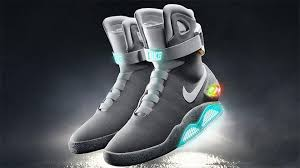nike: (181, 67, 210, 105)
